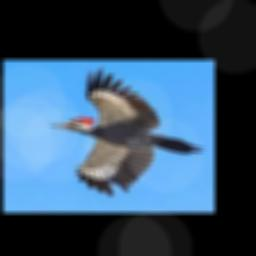Woodpecker: (50, 66, 204, 196)
